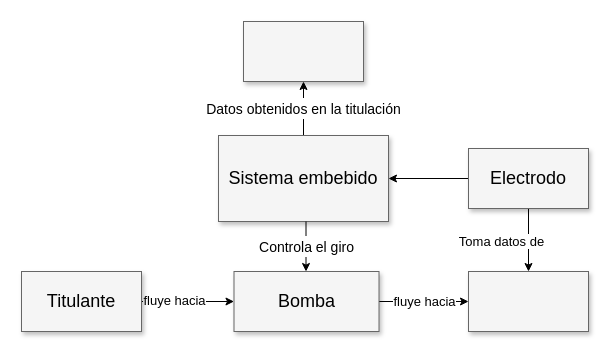
Image size: 612x356. Some labels were removed from this diagram. The shapes that lost their labels are listed below. From the top down, each one's centre as x and y in pixels, then its label:
At (x=304, y=52): "Software en PC".
At (x=529, y=302): "Solución".
